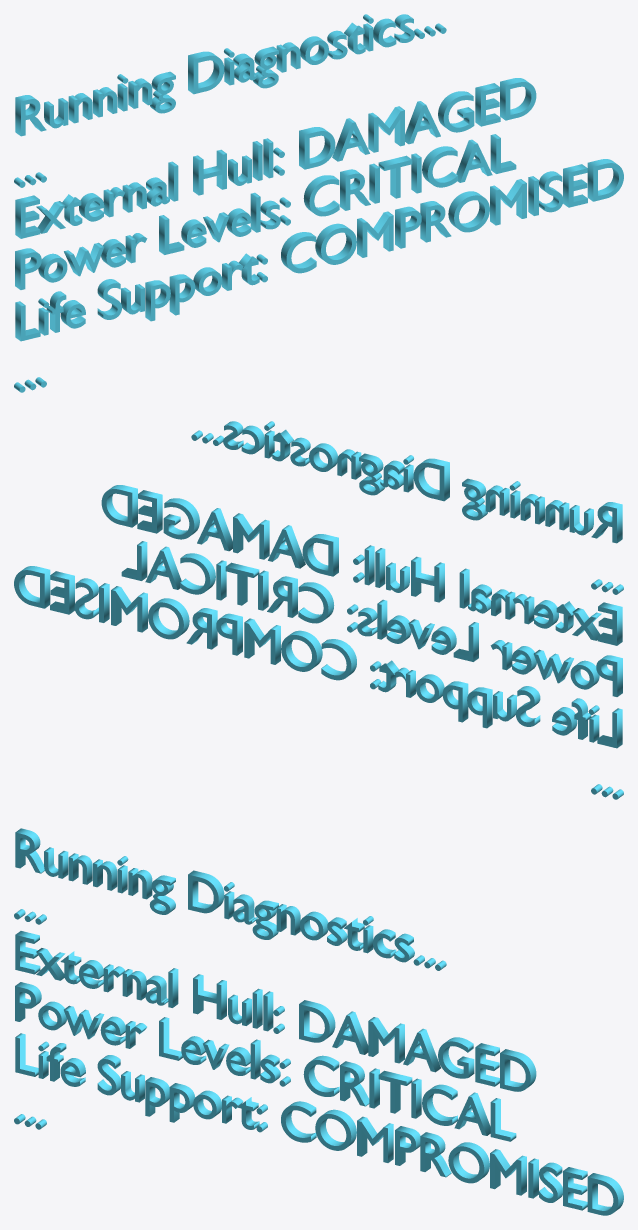
File: console_status.fbx
3 renders of one model, top to bottom at view 1: azimuth 30°, elevation 25°; view 2: azimuth 150°, elevation 25°; view 3: azimuth 330°, elevation 25°, orthographic.
Visible parts, largest first — view 1: Txt_Test_01.005; view 2: Txt_Test_01.005; view 3: Txt_Test_01.005.
Boxes of the visible parts, x1=… form: Txt_Test_01.005: x1=14, y1=14, x2=623, y2=392; Txt_Test_01.005: x1=14, y1=421, x2=623, y2=799; Txt_Test_01.005: x1=14, y1=828, x2=623, y2=1215.
Bounding box in the file's own units: 1.67 × 0.7676 × 0.027.
